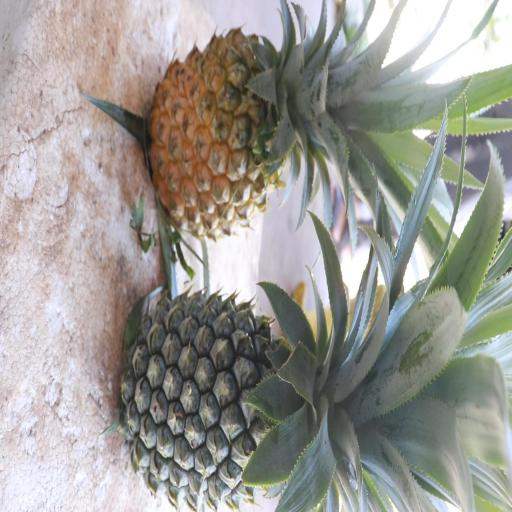Pineapple - v8 v1: (148, 27, 425, 238)
